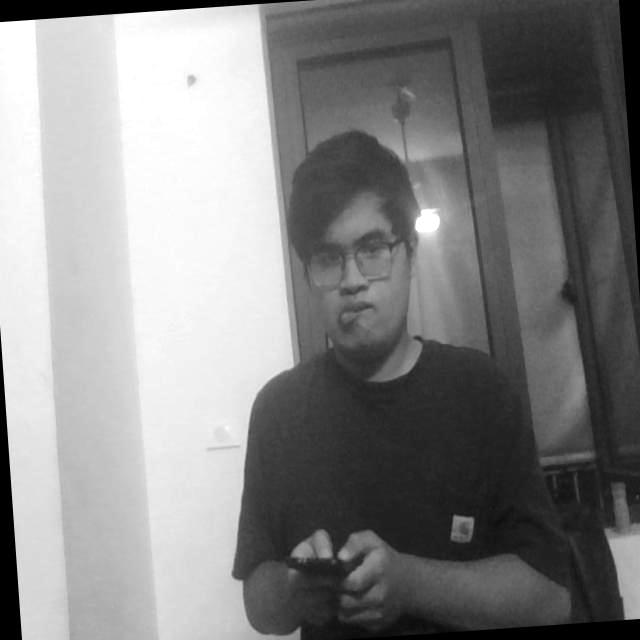phone: (279, 528, 371, 603)
